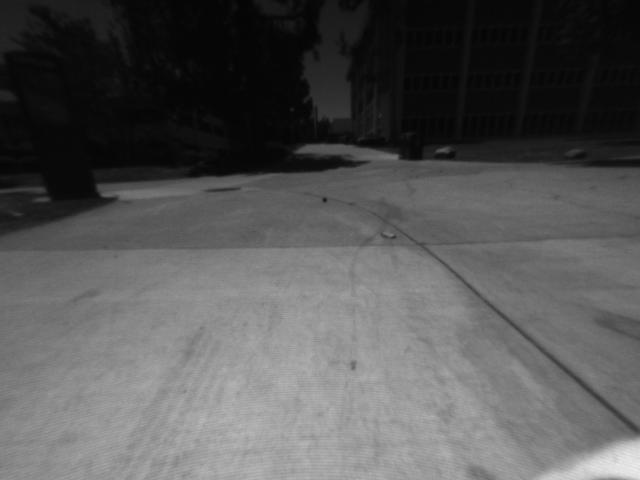dogtoy: (317, 192, 334, 206)
